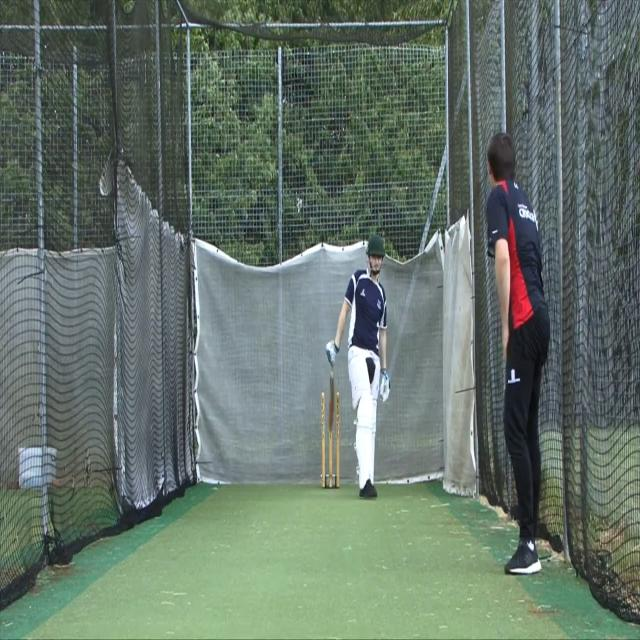batsman: (324, 234, 392, 501)
